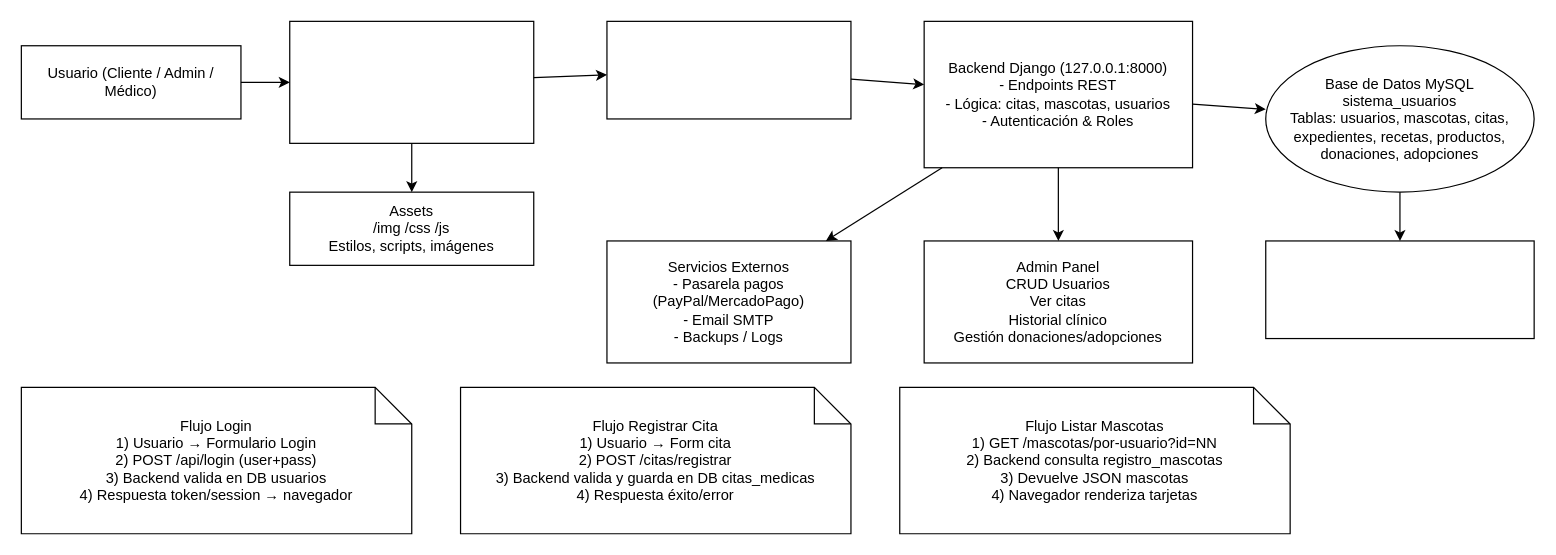
Some shapes in this 1556 by 555 pixel diagram are drawn without their labels. The box of each missing label's shape, as (x1, y1, x2, y2) in pixels:
Frontend Server Live Server (5501) Sirve HTML/JS/CSS: (606, 20, 851, 119)
MySQL Workbench - Diseño EER - Queries manuales - Administración DB: (1265, 240, 1534, 339)
Navegador Web - HTML/CSS/JS - React UI - LocalStorage/Session - Fetch API: (289, 20, 534, 143)
